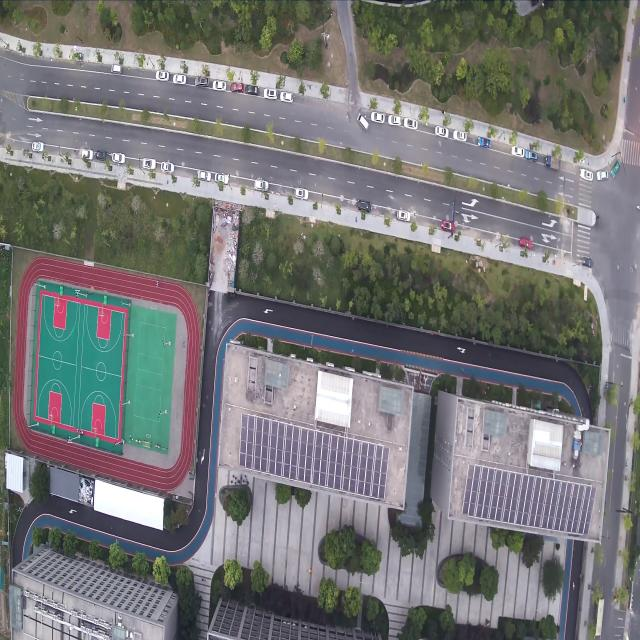UAV: (351, 348, 354, 353)
